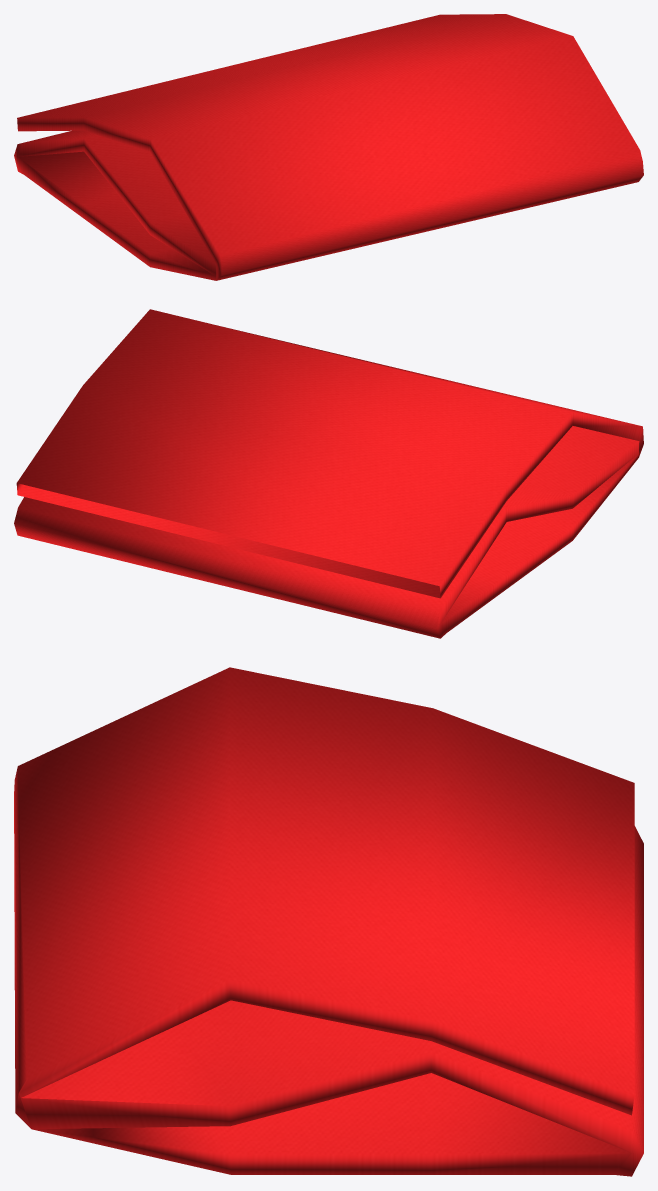
File: Blanket_E.FBX
3 views of the same model, one above another, from view 1: azimuth 30°, elevation 25°; view 2: azimuth 150°, elevation 25°; view 3: azimuth 270°, elevation 25° (orthographic). The views are drawn at different scales.
Parts seen in each view (by area): view 1: Blanket; view 2: Blanket; view 3: Blanket.
Part boxes in pixels (x1,y1,x2,y2): Blanket: (14, 14, 643, 280); Blanket: (14, 309, 643, 638); Blanket: (14, 667, 643, 1176).
Bounding box in the file's own units: 123 × 35.98 × 105.
